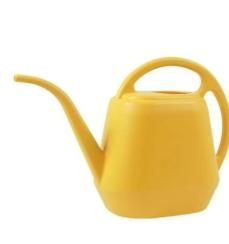ARROSOIR: (9, 27, 229, 244)
